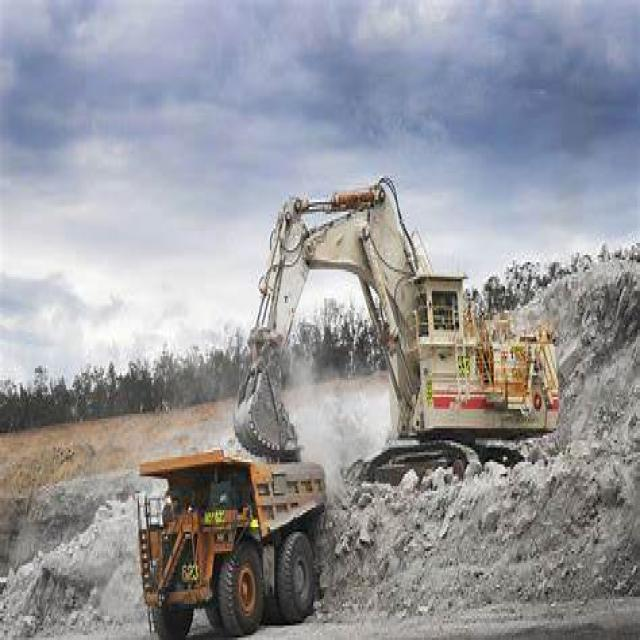dump_truck: (123, 448, 328, 638)
excavator: (244, 168, 570, 486)
